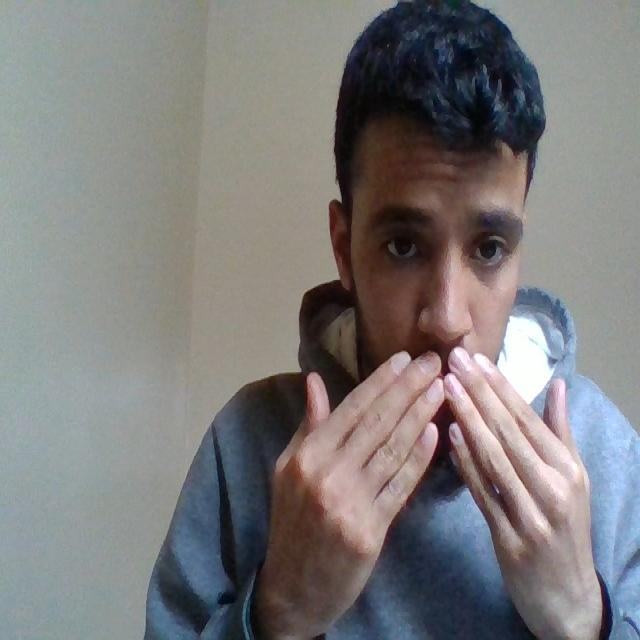No: (251, 342, 619, 638)
Thanks: (241, 334, 617, 634)
